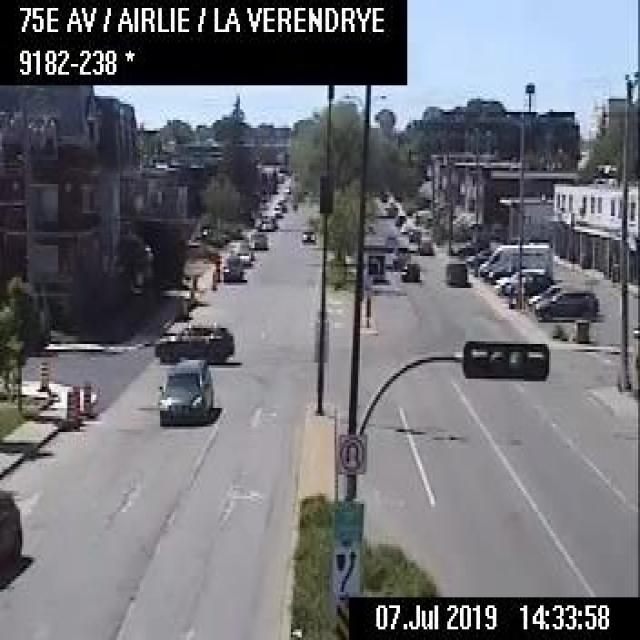construction: (64, 387, 74, 429), (38, 358, 51, 390), (69, 382, 79, 418), (81, 379, 90, 415), (212, 254, 220, 284), (188, 272, 196, 299), (209, 263, 216, 288)
vehicle: (154, 357, 213, 425), (152, 320, 232, 358), (476, 241, 552, 280), (0, 484, 24, 583), (533, 286, 599, 321), (495, 267, 546, 290), (442, 258, 465, 282), (222, 254, 241, 280), (231, 242, 251, 263), (401, 260, 421, 280), (390, 245, 408, 267), (249, 230, 266, 251), (414, 236, 432, 253), (298, 224, 315, 240), (406, 225, 419, 241), (383, 233, 396, 248), (259, 215, 274, 228), (271, 202, 282, 216), (394, 211, 403, 224)
